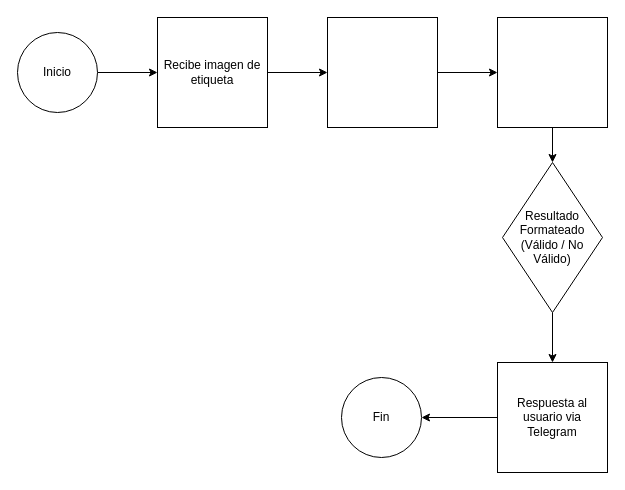
Image size: 625x490. Some labels were removed from this diagram. The centre of each missing label's shape, as x and y in pixels:
"Extración de texto con Tesseract" goes at (382,72).
"Validación estructural y semántica" goes at (552,72).
